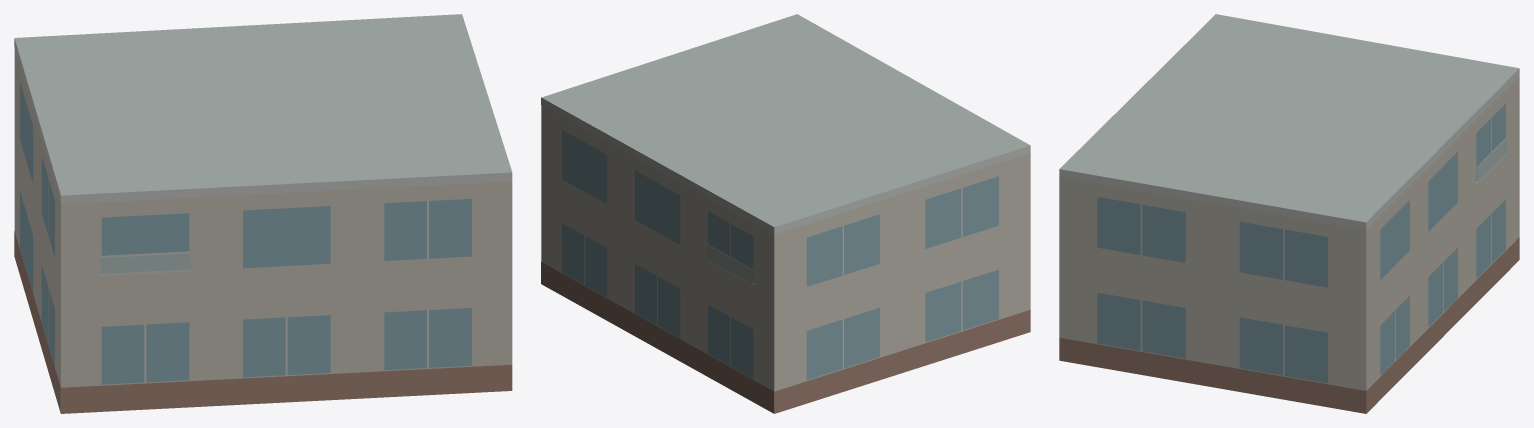
The model's file is survey-upis-32698071.glb.
3 views of the same model, side by side, from view 1: azimuth 30°, elevation 25°; view 2: azimuth 150°, elevation 25°; view 3: azimuth 270°, elevation 25° (orthographic). The views are drawn at different scales.
Parts seen in each view (by area): view 1: survey-upis-32698071.tmp; view 2: survey-upis-32698071.tmp; view 3: survey-upis-32698071.tmp.
Part boxes in pixels (box(x1,y1,x2,y2)): survey-upis-32698071.tmp: box(14, 14, 512, 413); survey-upis-32698071.tmp: box(541, 14, 1030, 413); survey-upis-32698071.tmp: box(1059, 14, 1519, 413).
Bounding box in the file's own units: 14.25 × 6.1 × 13.3.
